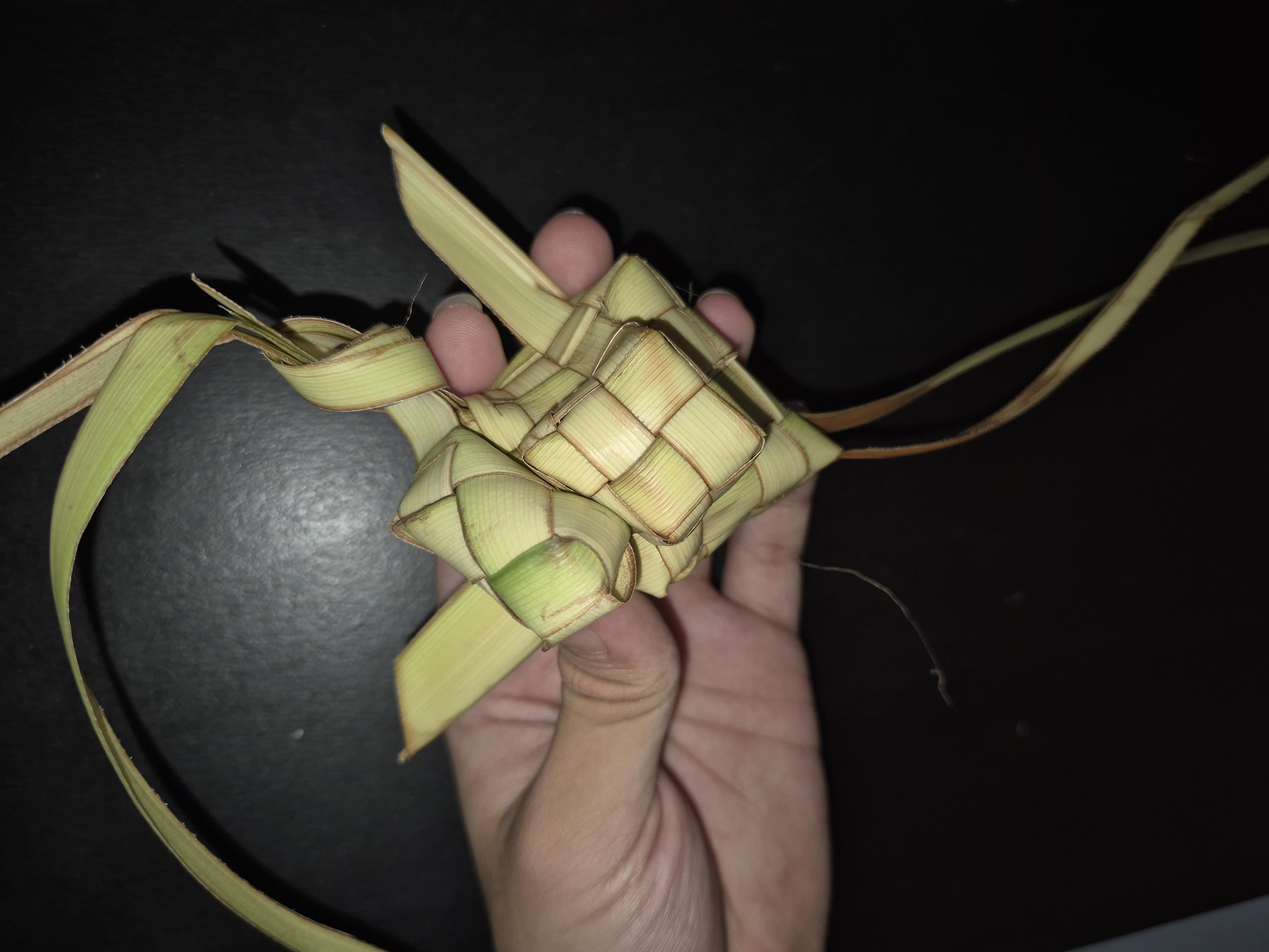Tipat Gong: (473, 345, 926, 629)
